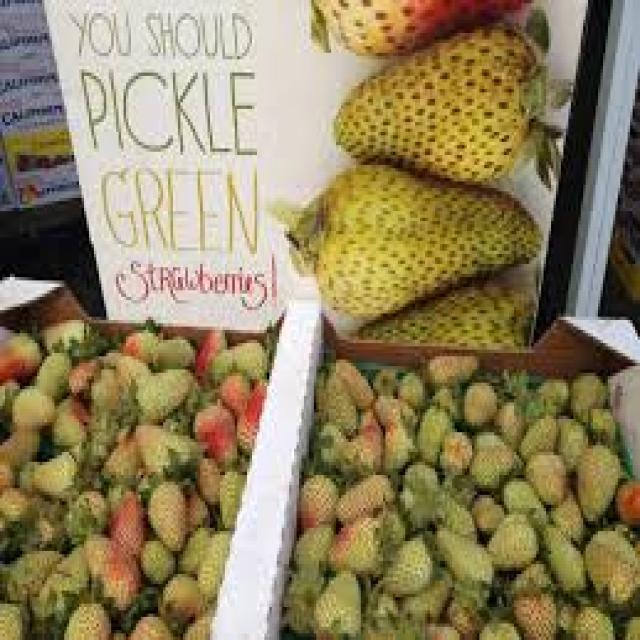strawberry: (286, 178, 538, 316), (336, 30, 550, 175), (434, 530, 494, 590), (135, 422, 199, 478), (130, 370, 193, 424), (314, 570, 363, 638), (577, 446, 621, 519), (338, 473, 396, 528), (387, 537, 436, 598), (149, 482, 188, 550), (546, 526, 584, 594), (493, 514, 537, 571), (316, 372, 359, 430), (33, 449, 85, 496), (198, 532, 232, 600), (298, 476, 339, 532), (10, 387, 56, 430), (524, 449, 562, 492), (463, 383, 498, 426), (416, 402, 441, 462), (66, 603, 106, 640)
